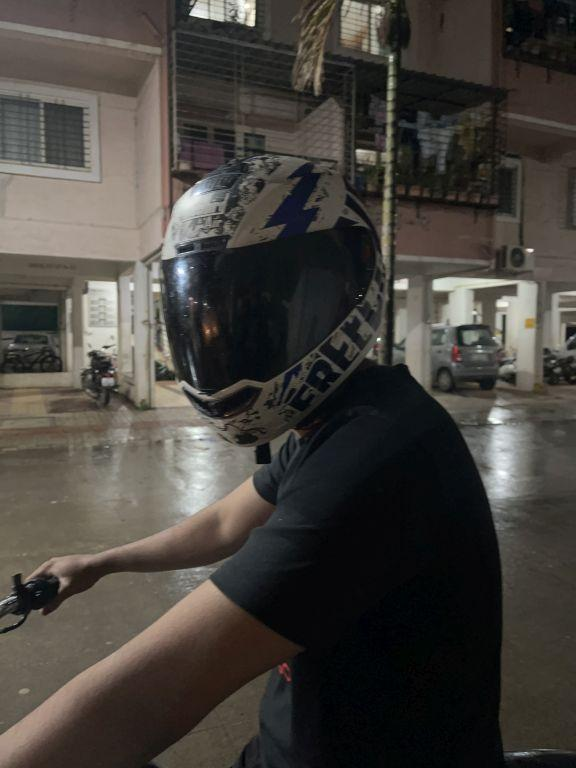helmet: (149, 140, 397, 454)
